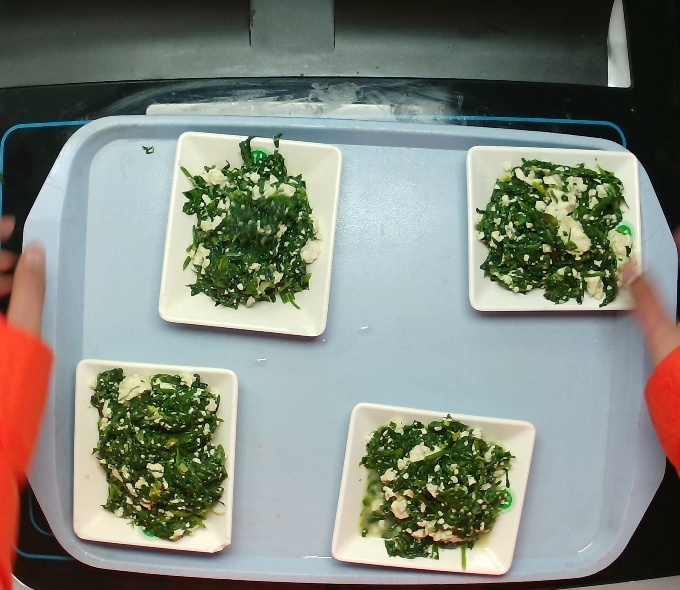wcq-QinCaiYeDouFu: (74, 364, 249, 552), (467, 147, 642, 312), (346, 413, 522, 561), (173, 140, 327, 308)
